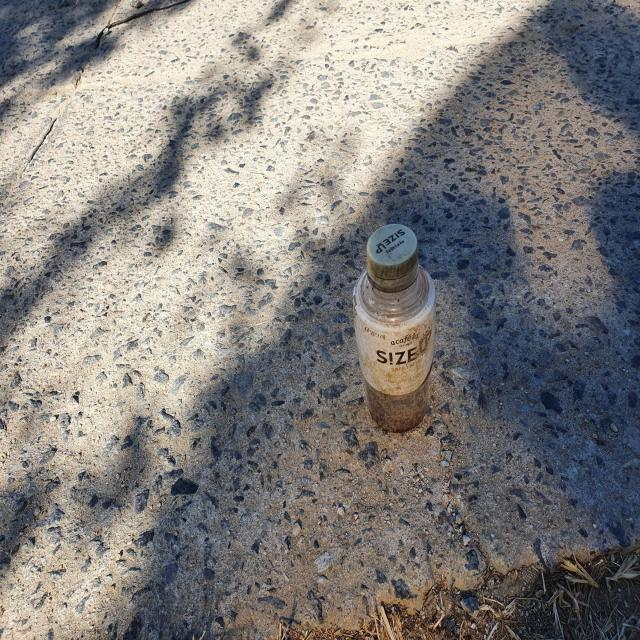plastic: (354, 224, 436, 432)
